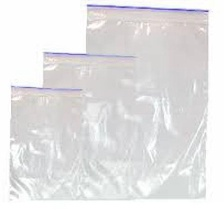plastic_bag: (81, 1, 210, 202), (40, 47, 143, 205), (3, 81, 88, 203)
